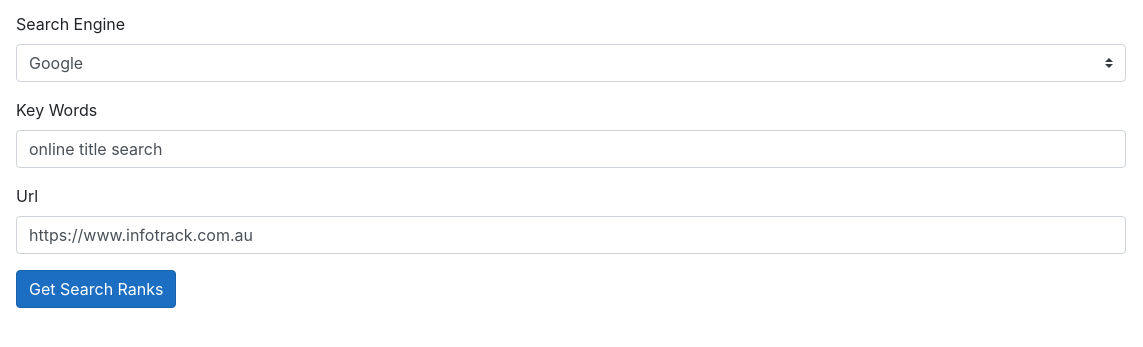
Test case: SeoTesterPage › should show loading when submitButton is clicked when fields are empty
The image size is (1143, 347).
Click the button "Get Search Ranks".
click(96, 289)  # box [16,270,176,308]
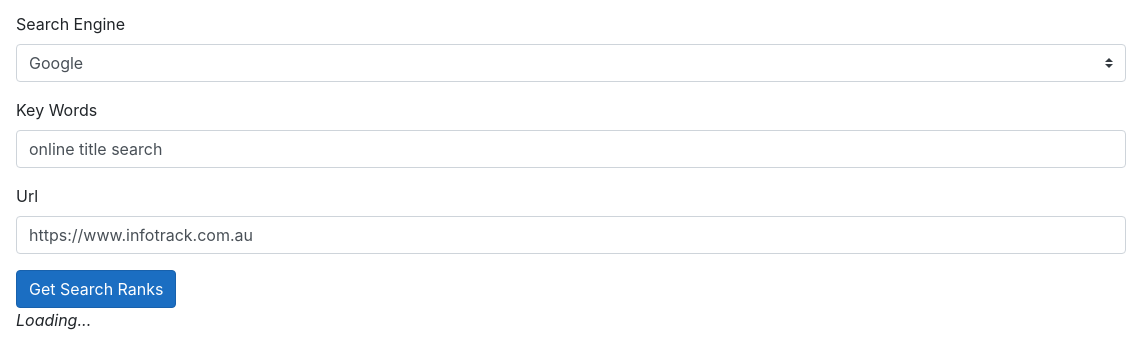
Expected: the text "Loading..." is shown, [16,310,91,330]
